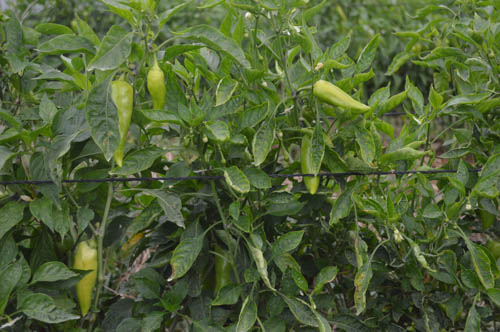ChiliPepper: (104, 81, 134, 164), (70, 243, 98, 315), (315, 82, 372, 113), (297, 136, 322, 192), (147, 67, 165, 110)
